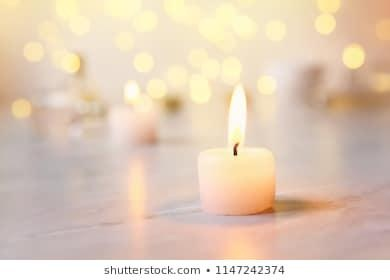fire: (224, 81, 247, 151), (122, 78, 143, 108)
